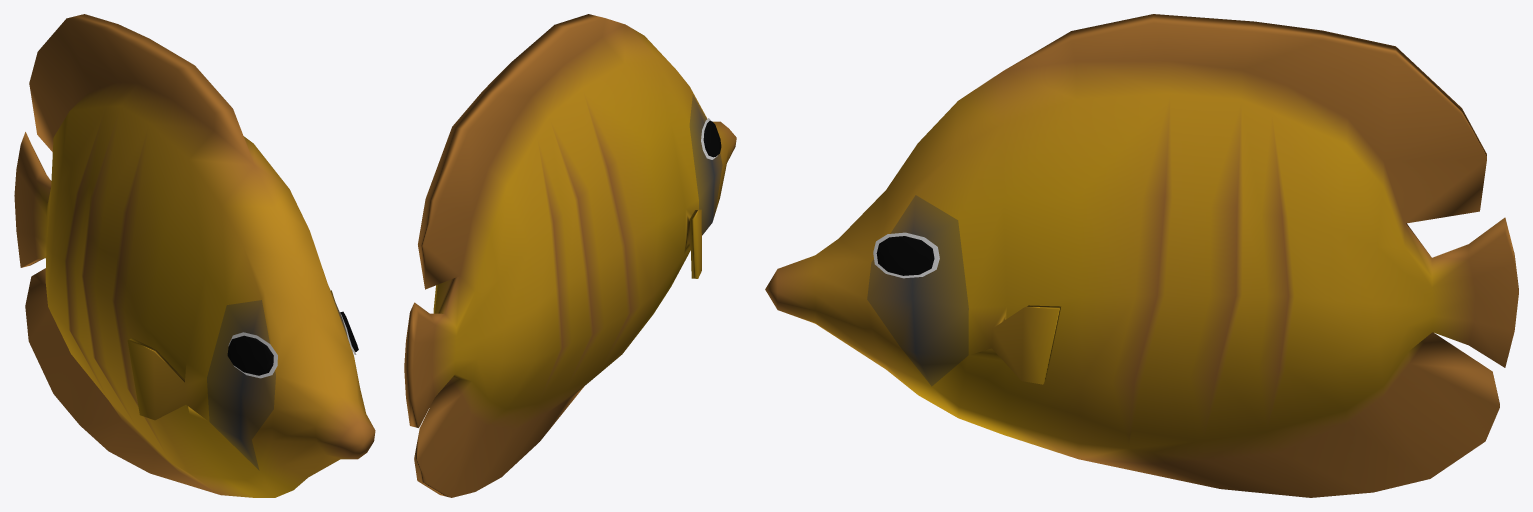
File: underwater-fish-yellow-tang_v1.fbx
3 views of the same model, side by side, from view 1: azimuth 30°, elevation 25°; view 2: azimuth 150°, elevation 25°; view 3: azimuth 270°, elevation 25° (orthographic). The views are drawn at different scales.
Parts seen in each view (by area): view 1: Yellow Tang; view 2: Yellow Tang; view 3: Yellow Tang.
Boxes of the visible parts, left/top/right/bottom form: Yellow Tang: left=14, top=14, right=375, bottom=497; Yellow Tang: left=404, top=14, right=736, bottom=497; Yellow Tang: left=765, top=14, right=1518, bottom=497.
Size of the model in its own units: 0.0685 by 0.1394 by 0.2.
